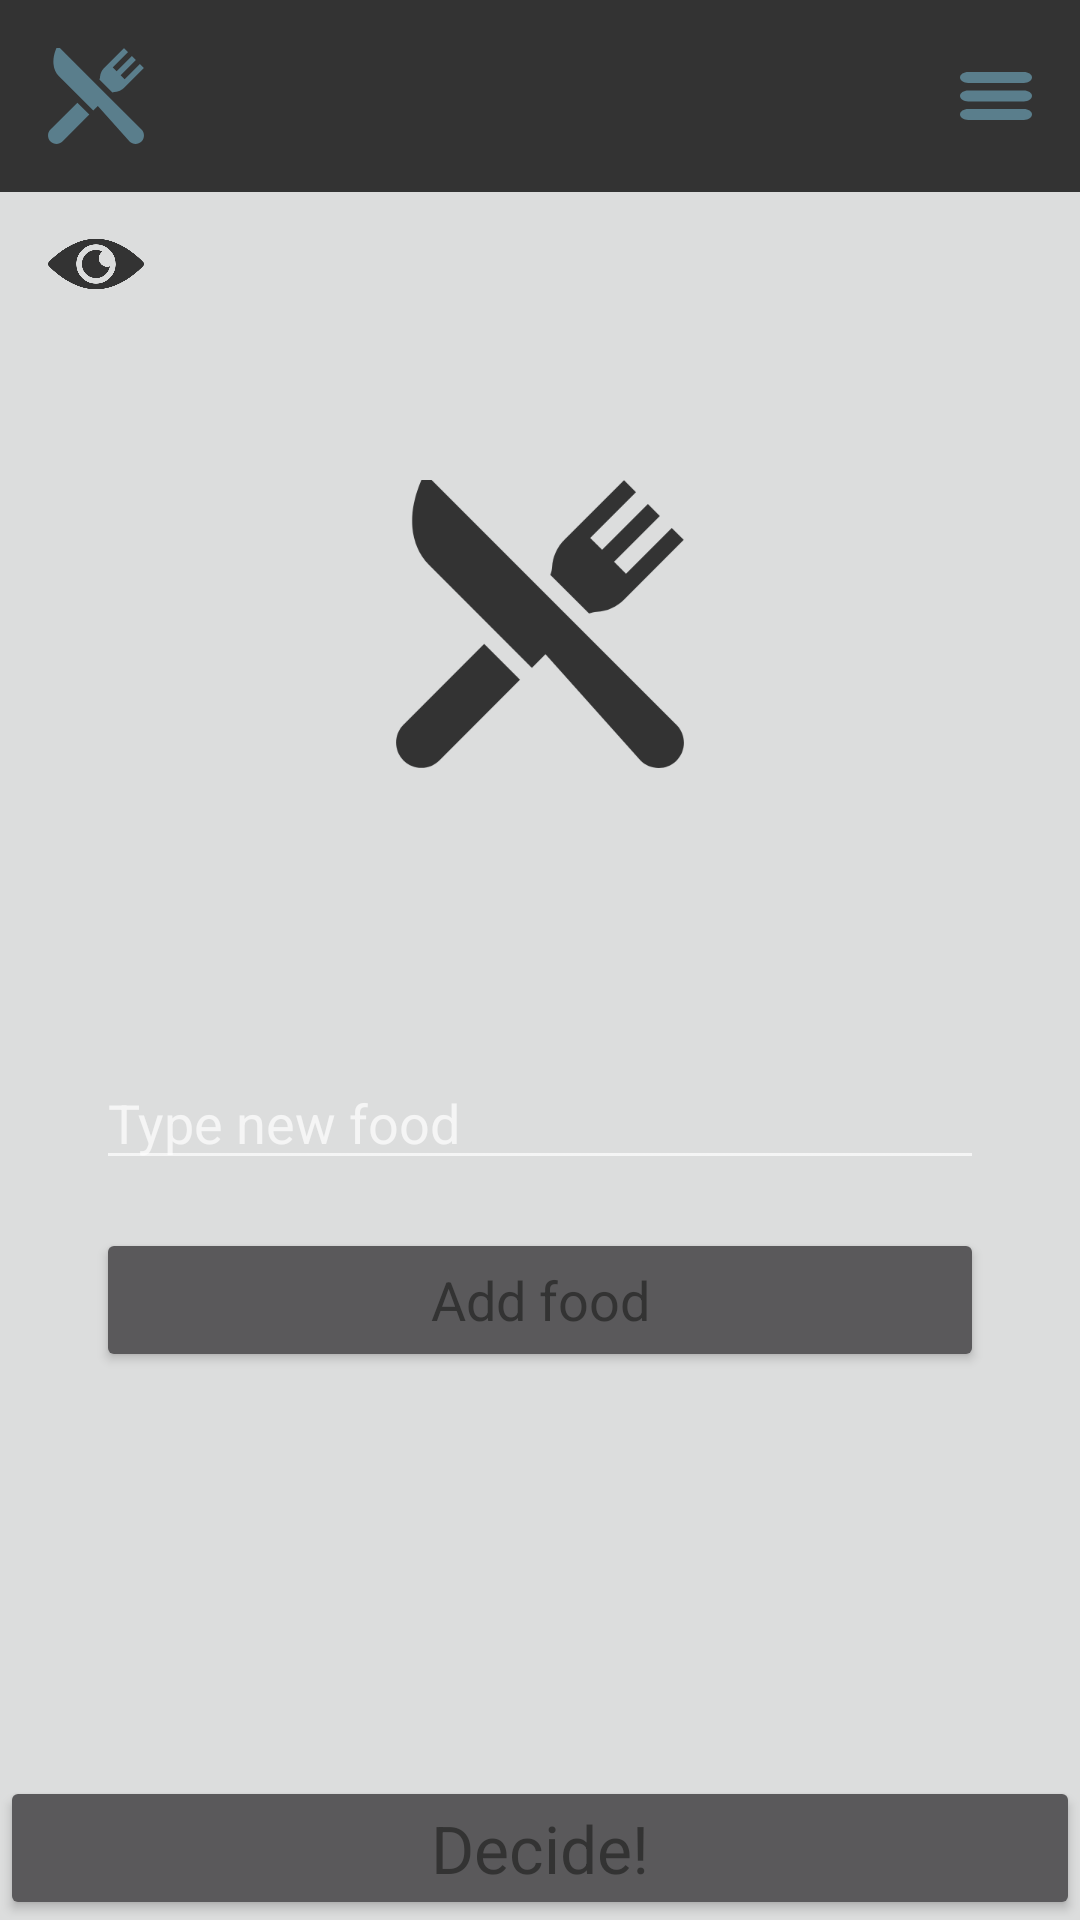

Point at icon controls on the screen. Image size 1080 × 1920, points as [x,y].
eye: [96,264]
toggle menu: [996,96]
